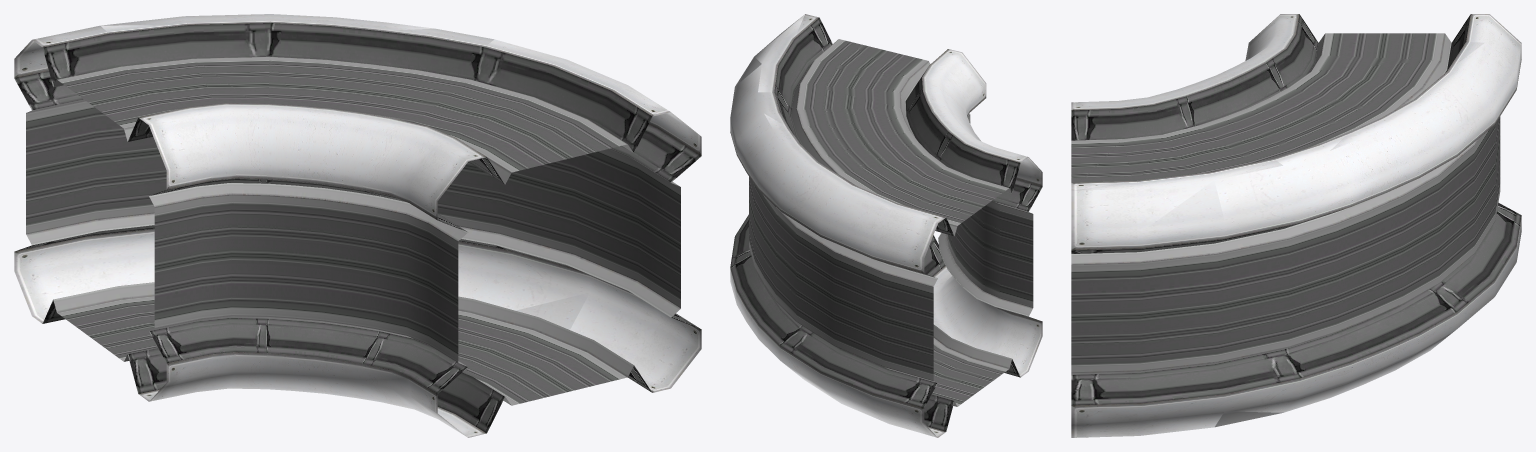
The model's file is CeilingBrace_Bend_S_B.FBX.
3 views of the same model, side by side, from view 1: azimuth 30°, elevation 25°; view 2: azimuth 150°, elevation 25°; view 3: azimuth 270°, elevation 25° (orthographic). The views are drawn at different scales.
Parts seen in each view (by area): view 1: CeilingBrace_Bend_S_B; view 2: CeilingBrace_Bend_S_B; view 3: CeilingBrace_Bend_S_B.
Part boxes in pixels (x1=…): CeilingBrace_Bend_S_B: x1=14, y1=14, x2=701, y2=437; CeilingBrace_Bend_S_B: x1=730, y1=14, x2=1042, y2=437; CeilingBrace_Bend_S_B: x1=1071, y1=14, x2=1521, y2=437.
Size of the model in its own units: 2.15 by 1.3 by 2.15.
